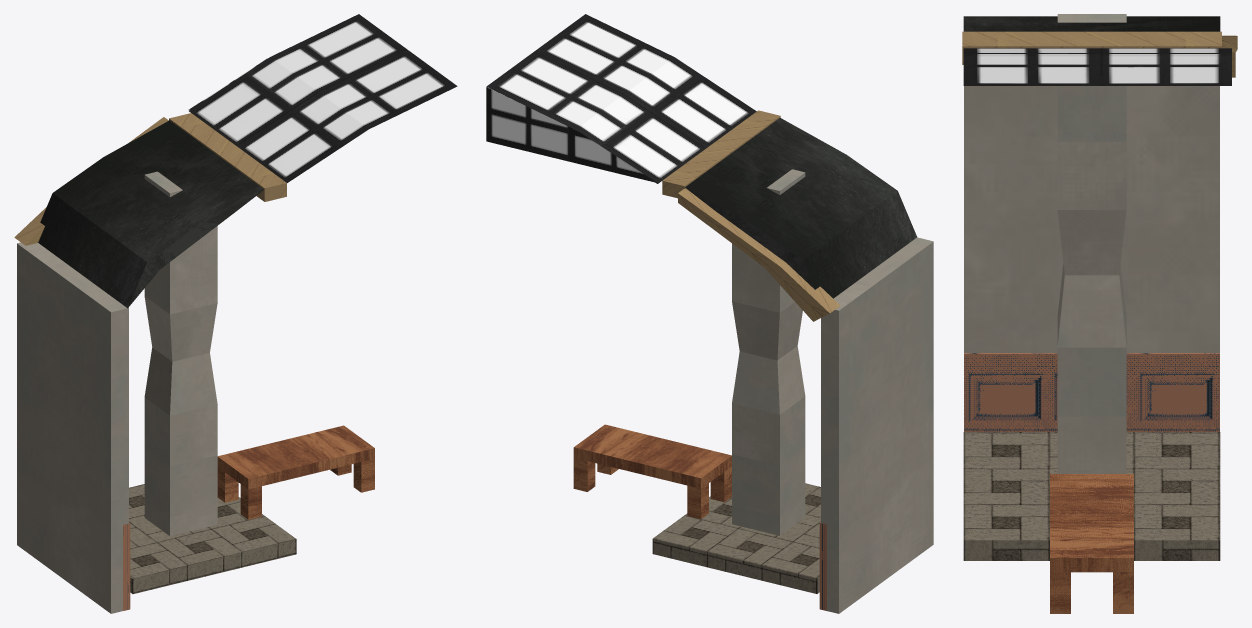
File: ALLMODELS.fbx
The picture shows the model from 3 angles, left to right: view 1: azimuth 30°, elevation 25°; view 2: azimuth 150°, elevation 25°; view 3: azimuth 270°, elevation 25°; orthographic projection. The views are drawn at different scales.
Parts seen in each view (by area): view 1: WALL, WINDOW_FLOOR, CEILING, COLUMN, FLOOR, BENCH, CEILING_WOOD.001, CEILING_WOOD_ANGLE, BOISURE; view 2: WALL, WINDOW_FLOOR, CEILING, COLUMN, FLOOR, BENCH, CEILING_HALFCIRCLE, CEILING_WOOD_ANGLE, CEILING_WOOD.001, BOISURE; view 3: WALL, COLUMN, FLOOR, BOISURE, WINDOW_FLOOR, BENCH, CEILING_WOOD.001, CEILING.
Boxes of the visible parts, left/top/right/bottom form: WALL: left=17, top=242, right=128, bottom=613; WINDOW_FLOOR: left=189, top=14, right=457, bottom=182; CEILING: left=38, top=120, right=264, bottom=308; COLUMN: left=144, top=171, right=217, bottom=536; FLOOR: left=129, top=484, right=296, bottom=593; BENCH: left=217, top=425, right=374, bottom=519; CEILING_WOOD.001: left=169, top=113, right=286, bottom=201; CEILING_WOOD_ANGLE: left=14, top=117, right=168, bottom=245; BOISURE: left=123, top=522, right=130, bottom=610; WALL: left=821, top=237, right=933, bottom=613; WINDOW_FLOOR: left=486, top=14, right=756, bottom=183; CEILING: left=685, top=118, right=916, bottom=298; COLUMN: left=732, top=169, right=805, bottom=535; FLOOR: left=652, top=483, right=820, bottom=593; BENCH: left=573, top=424, right=731, bottom=519; CEILING_HALFCIRCLE: left=486, top=87, right=657, bottom=182; CEILING_WOOD_ANGLE: left=678, top=188, right=840, bottom=321; CEILING_WOOD.001: left=662, top=110, right=780, bottom=198; BOISURE: left=819, top=522, right=826, bottom=610; WALL: left=964, top=86, right=1219, bottom=352; COLUMN: left=1057, top=14, right=1126, bottom=473; FLOOR: left=963, top=432, right=1220, bottom=560; BOISURE: left=964, top=353, right=1219, bottom=431; WINDOW_FLOOR: left=963, top=48, right=1231, bottom=85; BENCH: left=1050, top=474, right=1133, bottom=613; CEILING_WOOD.001: left=962, top=31, right=1221, bottom=64; CEILING: left=963, top=16, right=1220, bottom=31.
Bounding box in the file's own units: 842 × 1029 × 427.
